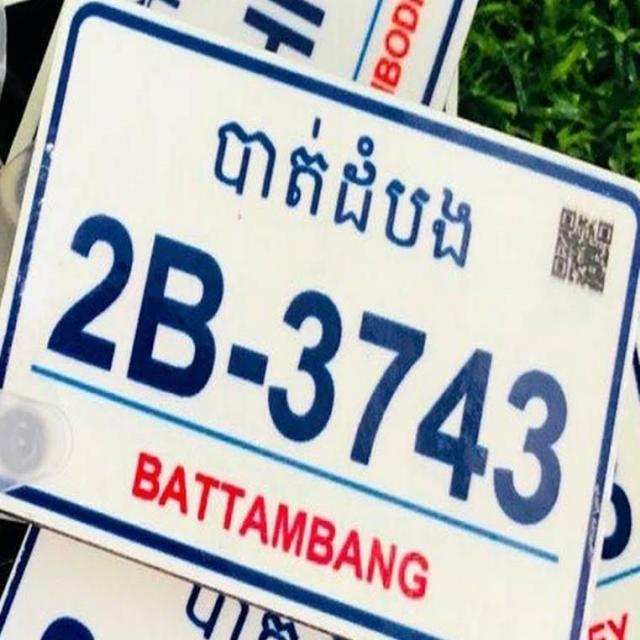Battambang: (203, 110, 476, 281)
